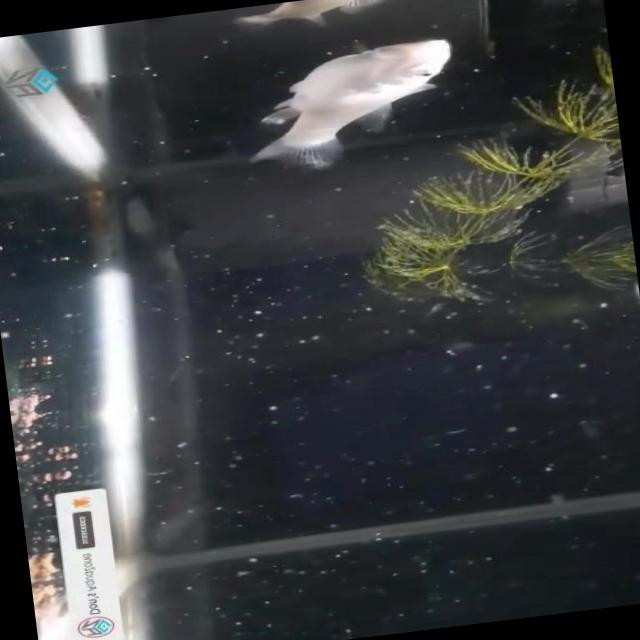PlatyFish: (217, 29, 480, 188)
